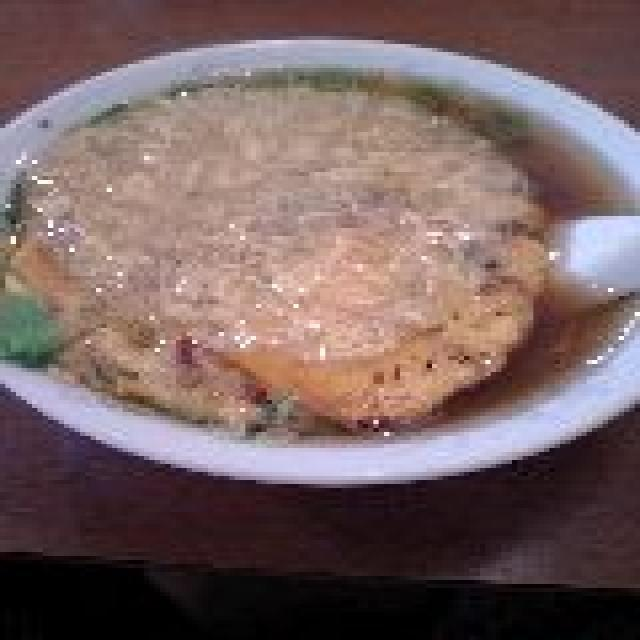面条主食: (0, 52, 640, 488)
